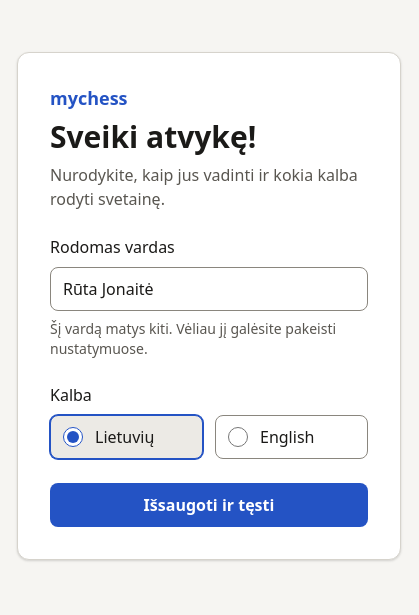
Test: OnboardingForm › does not mark the name field for a language refusal
Click the button "Išsaugoti ir tęsti".
click(209, 505)  # box 50,483 -> 368,527
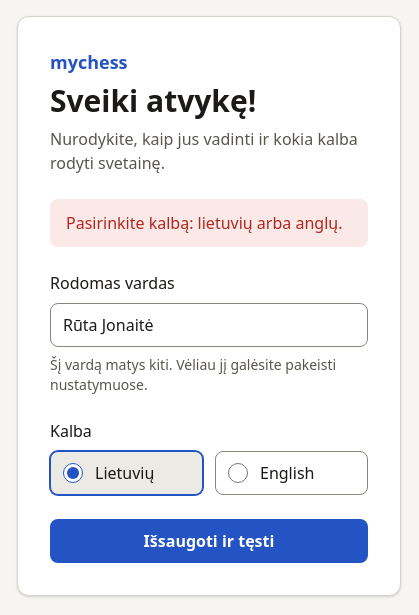
Result: the message reads "Pasirinkite kalbą: lietuvių arba anglų." at 66,212 -> 342,234
